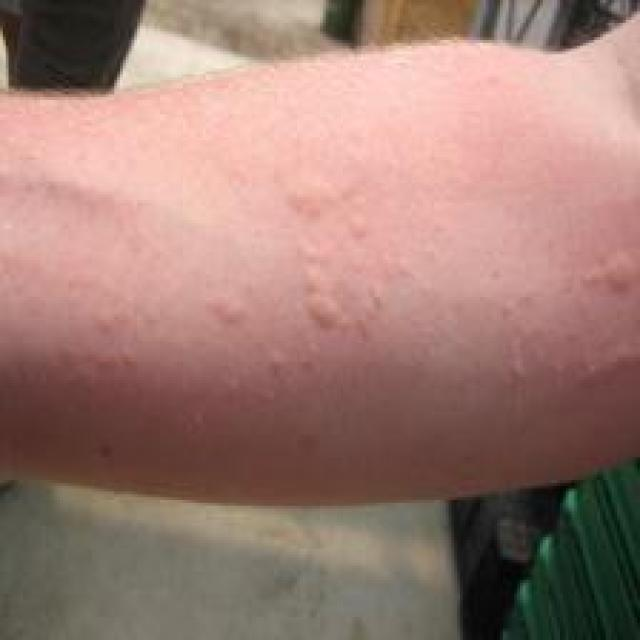sinek: (247, 159, 461, 356)
